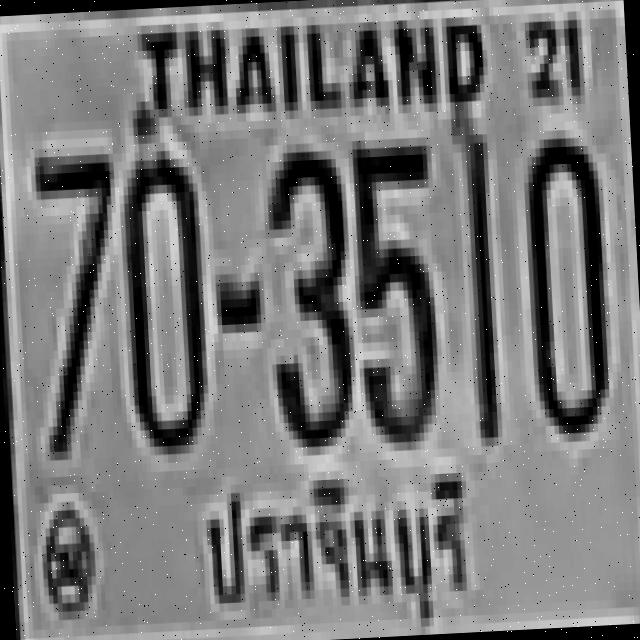0: (117, 142, 207, 448), (520, 128, 610, 434)
1: (458, 134, 501, 438)
3: (260, 146, 354, 444)
5: (348, 138, 438, 444)
7: (30, 146, 124, 452)
PrachinBuri: (185, 450, 479, 640)
